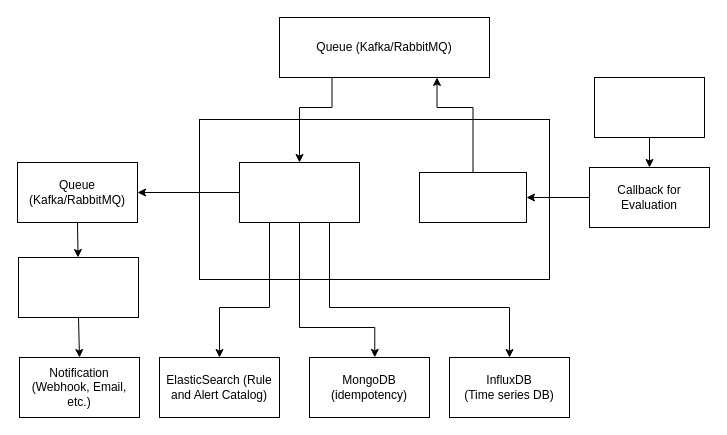
Some shapes in this 727 by 435 pixel diagram are drawn without their labels. The shapes that lost their labels are listed below. From the top down, each one's centre as x and y in pixels, then its label:
At point (649, 107): "Rule Scheduled/ Reconciled".
At point (299, 192): "Rule Evaluation (Consumer)".
At point (472, 197): "Validate Rule".
At point (78, 287): "Alert (Consumer)".
